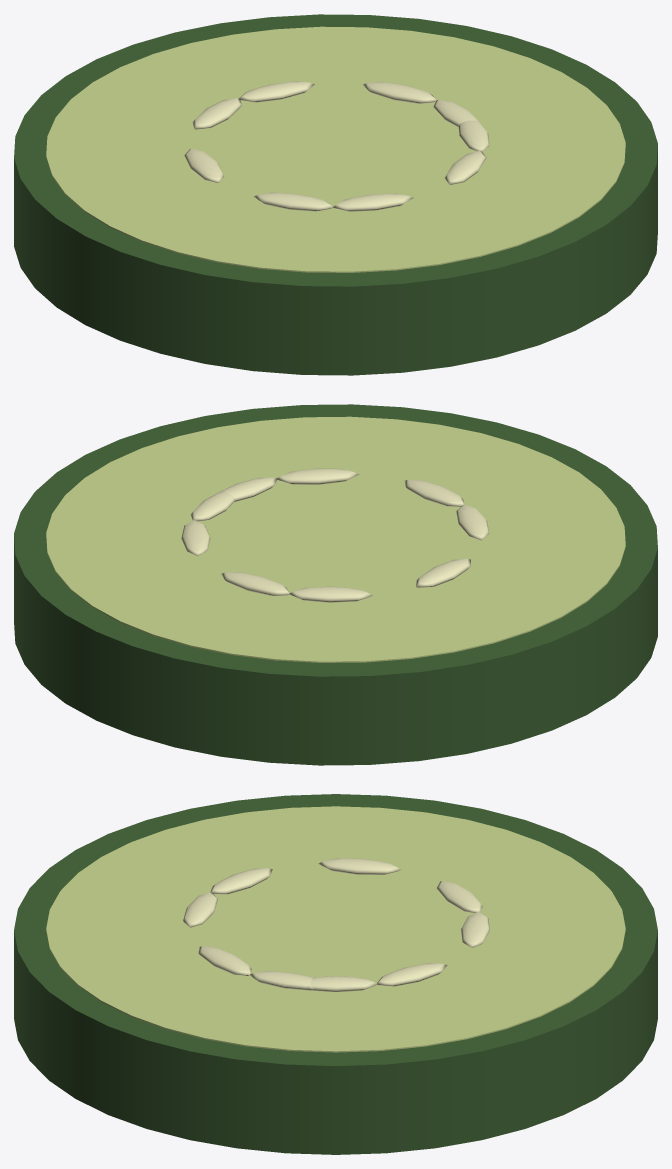
Rendered from cucumber.glb.
3 views of the same model, one above another, from view 1: azimuth 30°, elevation 25°; view 2: azimuth 150°, elevation 25°; view 3: azimuth 270°, elevation 25° (orthographic).
Bounding box in the file's own units: 0.46 × 0.0792 × 0.46.
